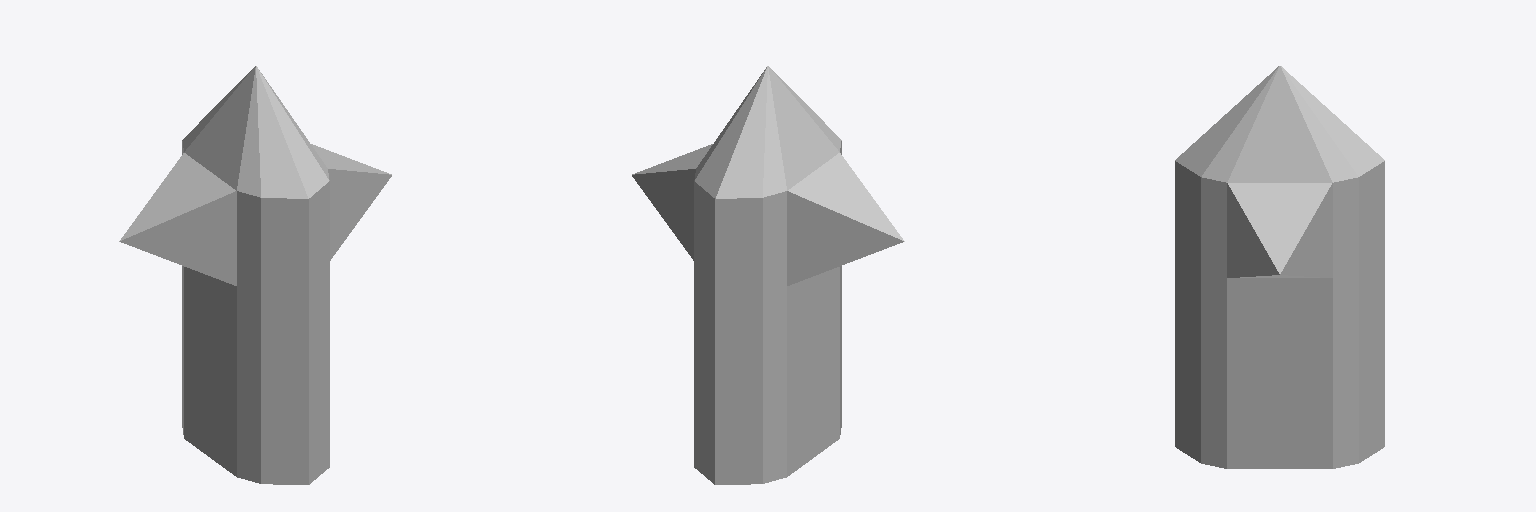
File: ships.obj
3 views of the same model, side by side, from view 1: azimuth 30°, elevation 25°; view 2: azimuth 150°, elevation 25°; view 3: azimuth 270°, elevation 25° (orthographic).
Visible parts, largest first — view 1: Ship; view 2: Ship; view 3: Ship.
Boxes of the visible parts, x1=… form: Ship: x1=119, y1=66, x2=391, y2=484; Ship: x1=632, y1=66, x2=904, y2=484; Ship: x1=1175, y1=66, x2=1384, y2=468.
Bounding box in the file's own units: 6 × 8 × 4.